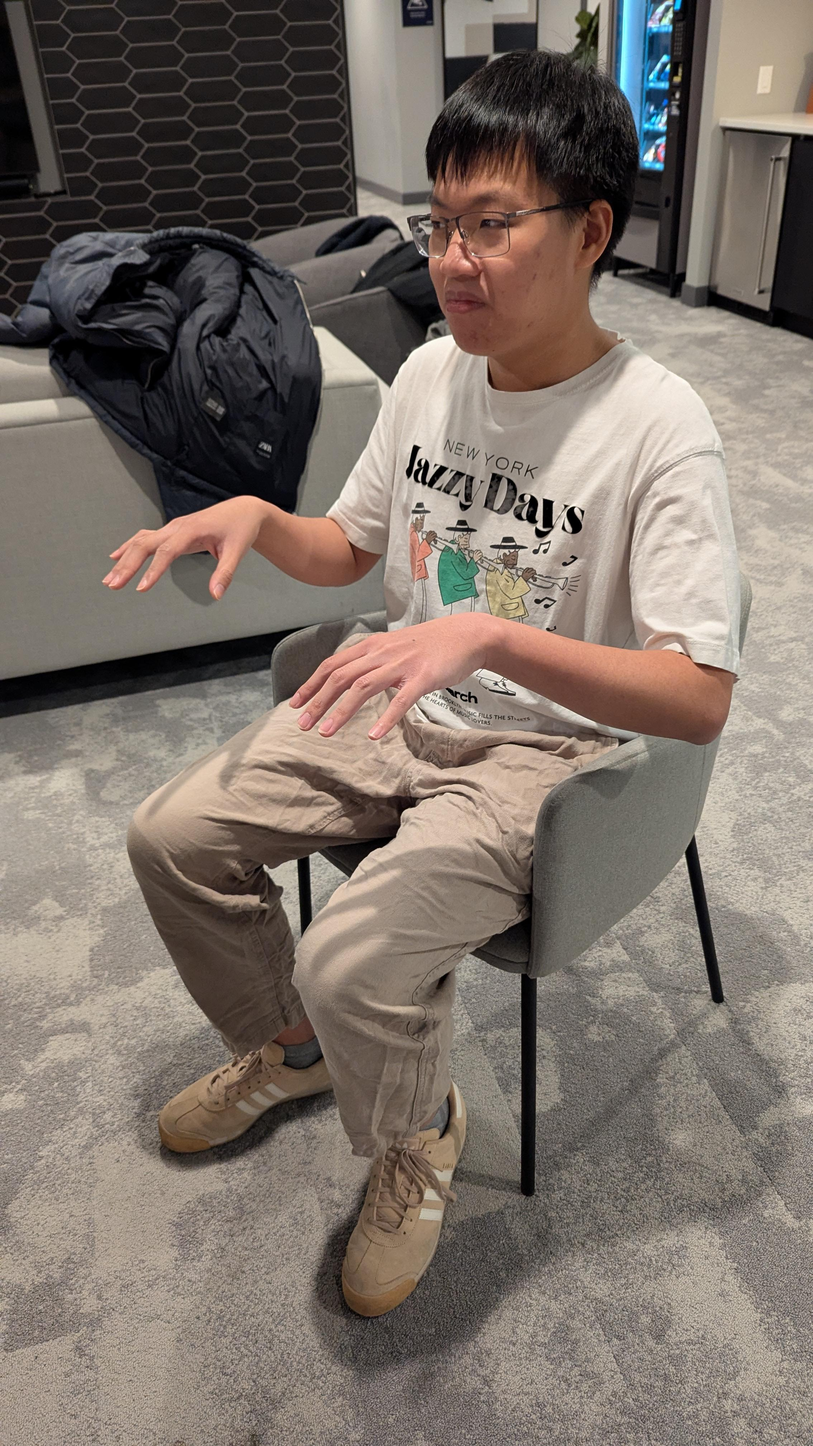GoodPosture: (99, 50, 740, 1316)
